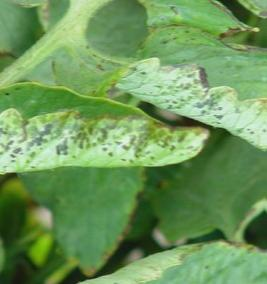Tomato leaf bacterial spot: (114, 26, 267, 176), (0, 84, 220, 172)
